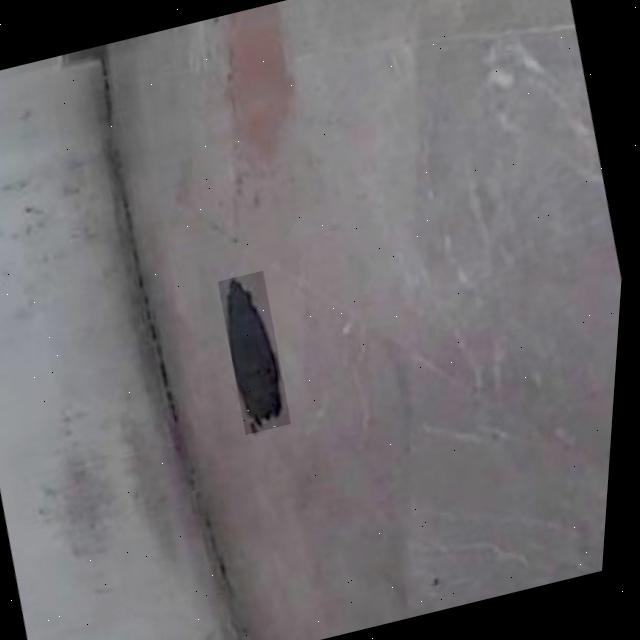spillage: (232, 276, 290, 431)
